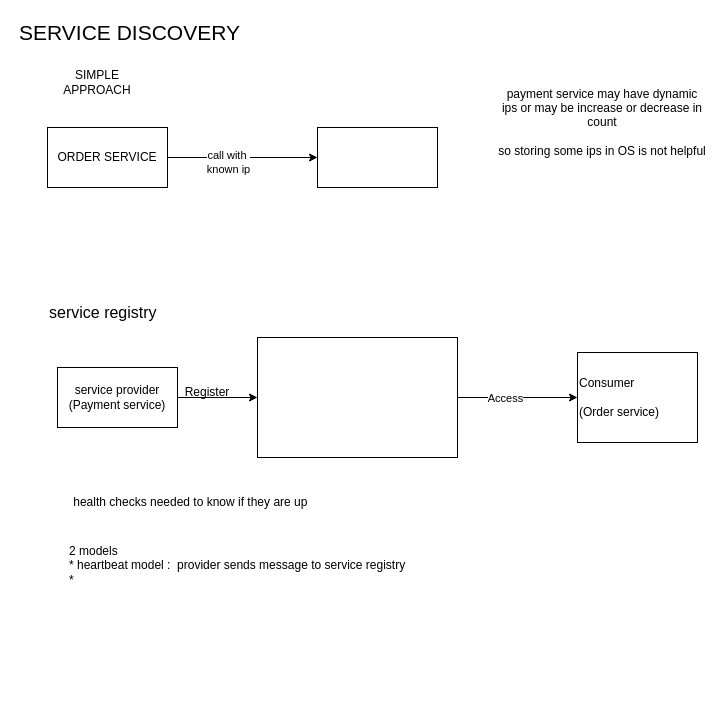
Some shapes in this 724 by 704 pixel diagram are drawn without their labels. The box of each missing label's shape, as (x1, y1, x2, y2) in pixels:
PAYMENT SERVICE: (316, 126, 438, 188)
service registry payment-service: * ip1 * ip2: (256, 336, 458, 458)
